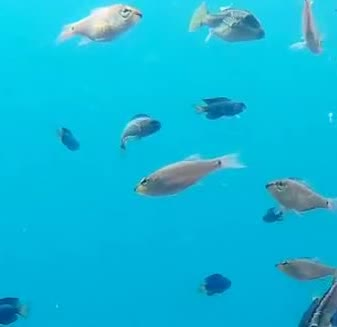smallfish: (130, 144, 249, 197)
